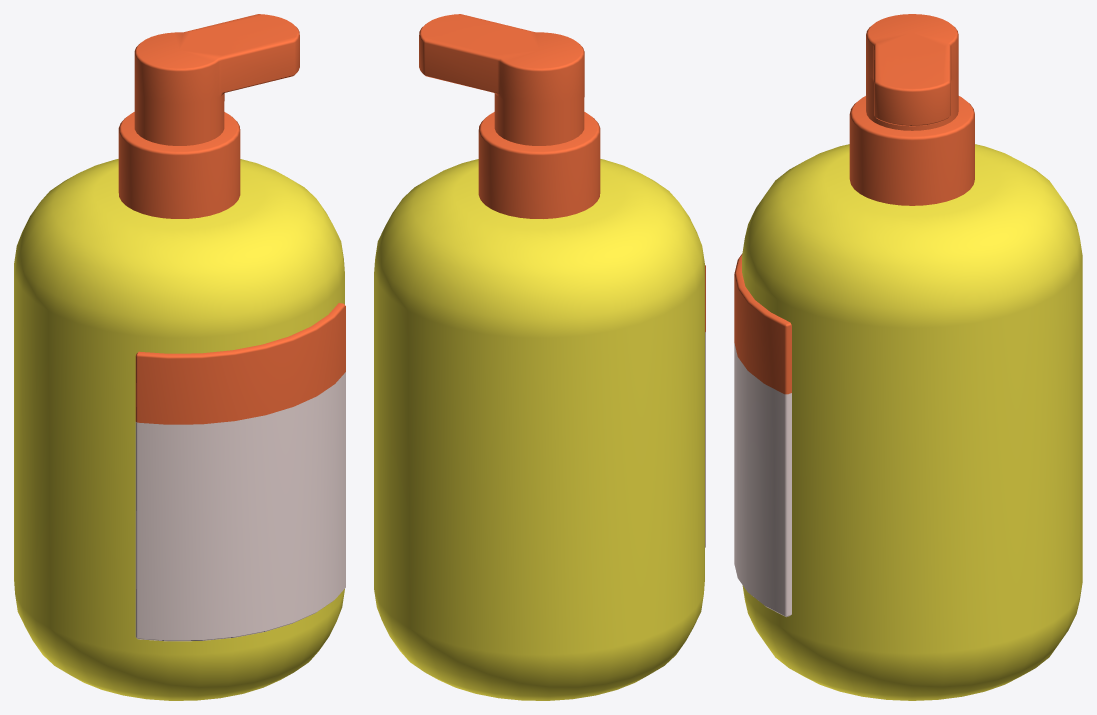
File: Public_15_Big_Bottle_1.glb
The picture shows the model from 3 angles, left to right: view 1: azimuth 30°, elevation 25°; view 2: azimuth 150°, elevation 25°; view 3: azimuth 270°, elevation 25°; orthographic projection. The views are drawn at different scales.
Parts seen in each view (by area): view 1: Public_15_Big_Bottle_1; view 2: Public_15_Big_Bottle_1; view 3: Public_15_Big_Bottle_1.
Part boxes in pixels (<box>): Public_15_Big_Bottle_1: <box>14,14,345,700</box>; Public_15_Big_Bottle_1: <box>374,14,705,700</box>; Public_15_Big_Bottle_1: <box>734,14,1082,700</box>.
Bounding box in the file's own units: 2.96 × 6 × 3.03.
Materials: 1 (1 with a texture image).
